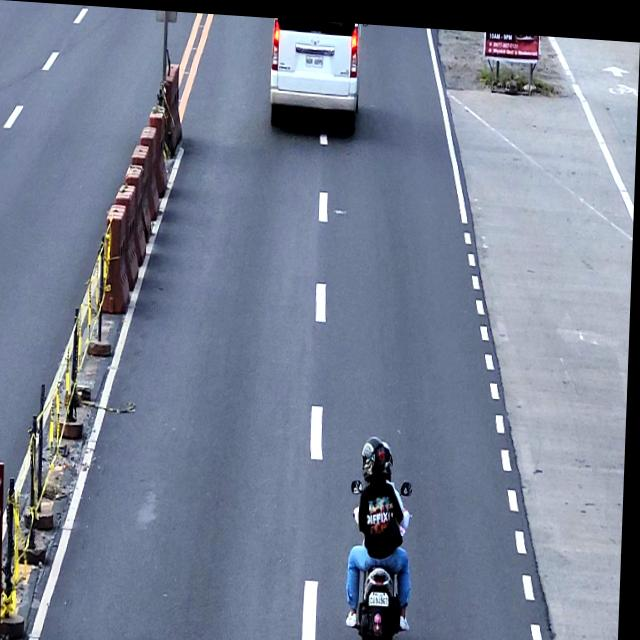Car: (269, 14, 366, 128)
License-Plate: (372, 585, 395, 603), (304, 51, 324, 64)
Motorcycle: (348, 472, 418, 640)
